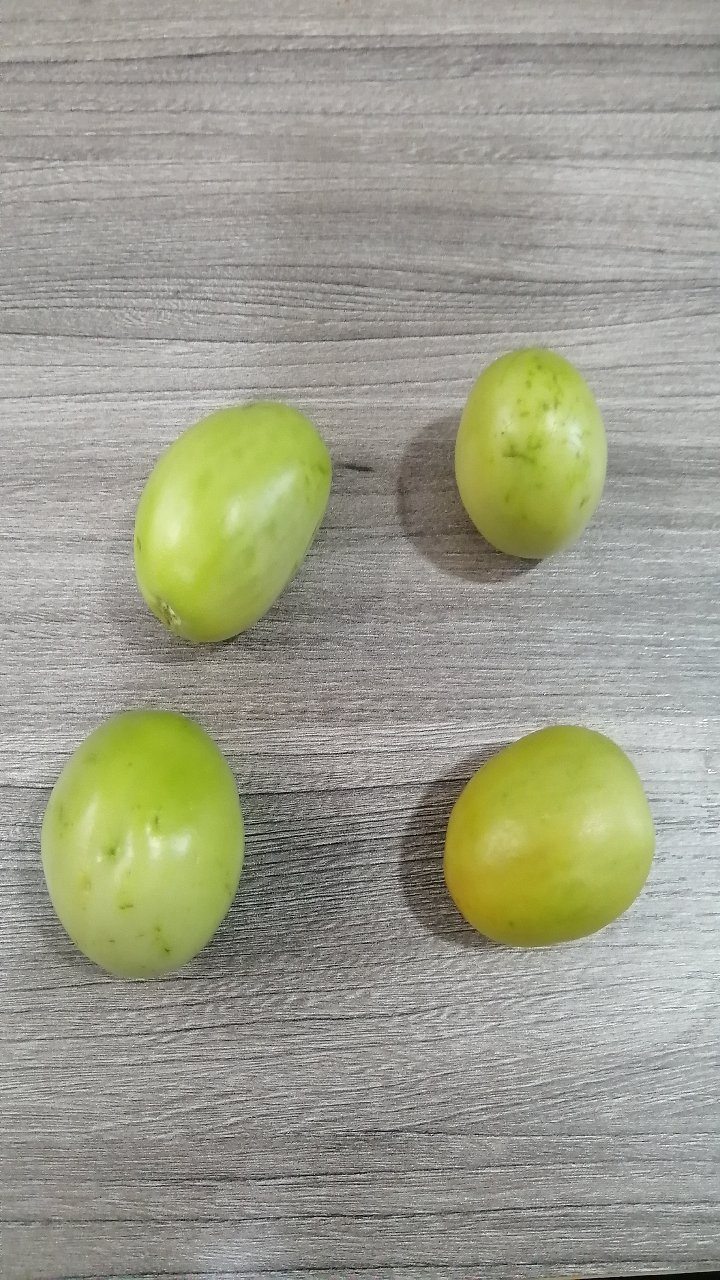tomateVerde: (423, 700, 677, 983), (94, 388, 348, 666), (24, 689, 260, 983), (429, 329, 623, 569)
